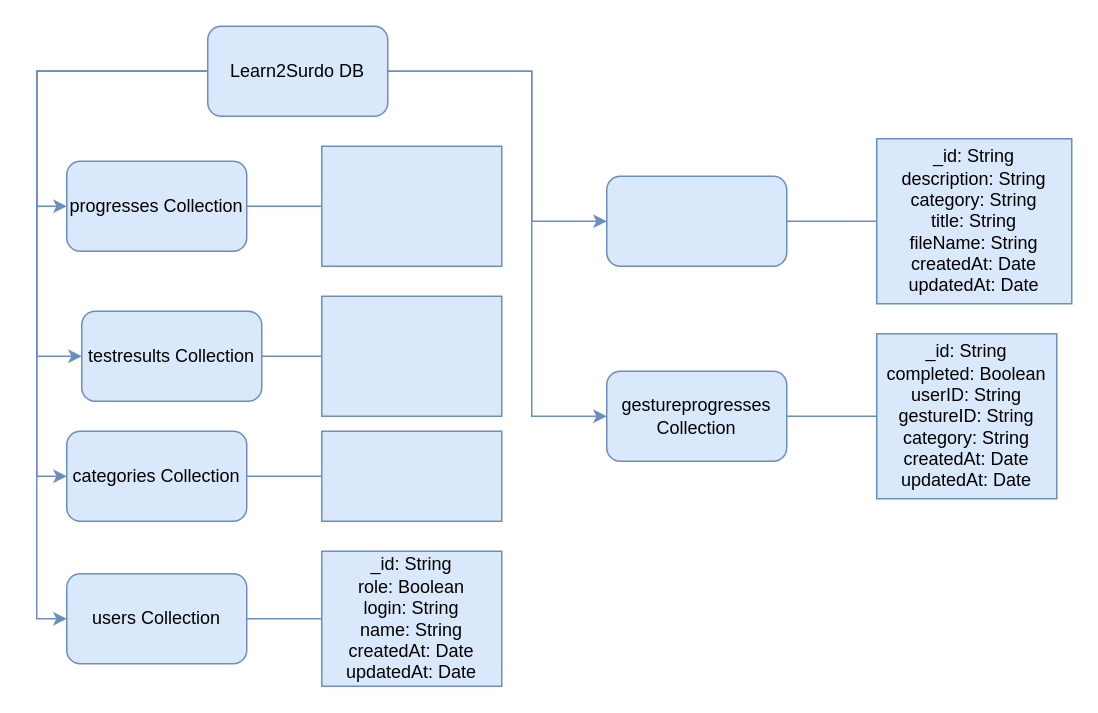
Image size: 1098x713. Some labels were removed from this diagram. The box of each missing label's shape, as (x1, y1, x2, y2) in pixels:
_id: String results: Array userID: String createdAt: Date updatedAt: Date: (320, 295, 502, 416)
_id: String title: String createdAt: Date updatedAt: Date: (320, 430, 502, 521)
_id: String userID: String beginIndex: String createdAt: Date updatedAt: Date: (320, 145, 502, 266)
gestures Collection: (605, 175, 787, 266)
